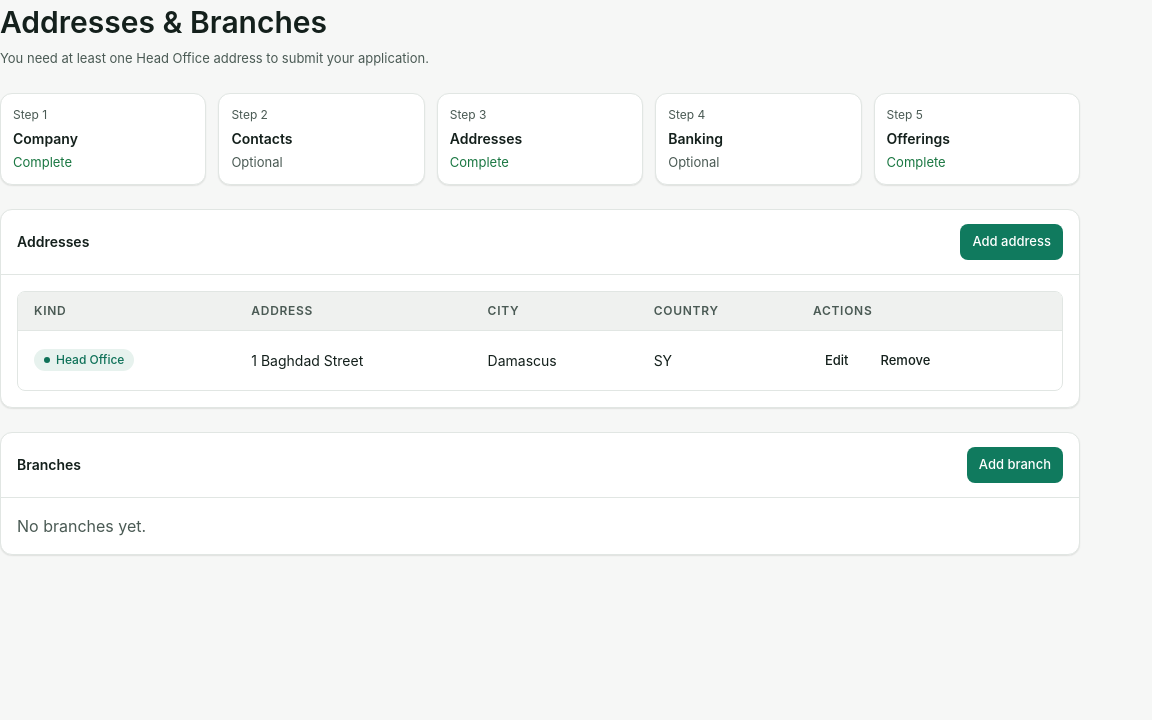
Test case: what the coordinate fields send › refuses to save an address with no position at all
Click the button "Edit" at (837, 360), box [813,342,860,378]
(page scrolled)
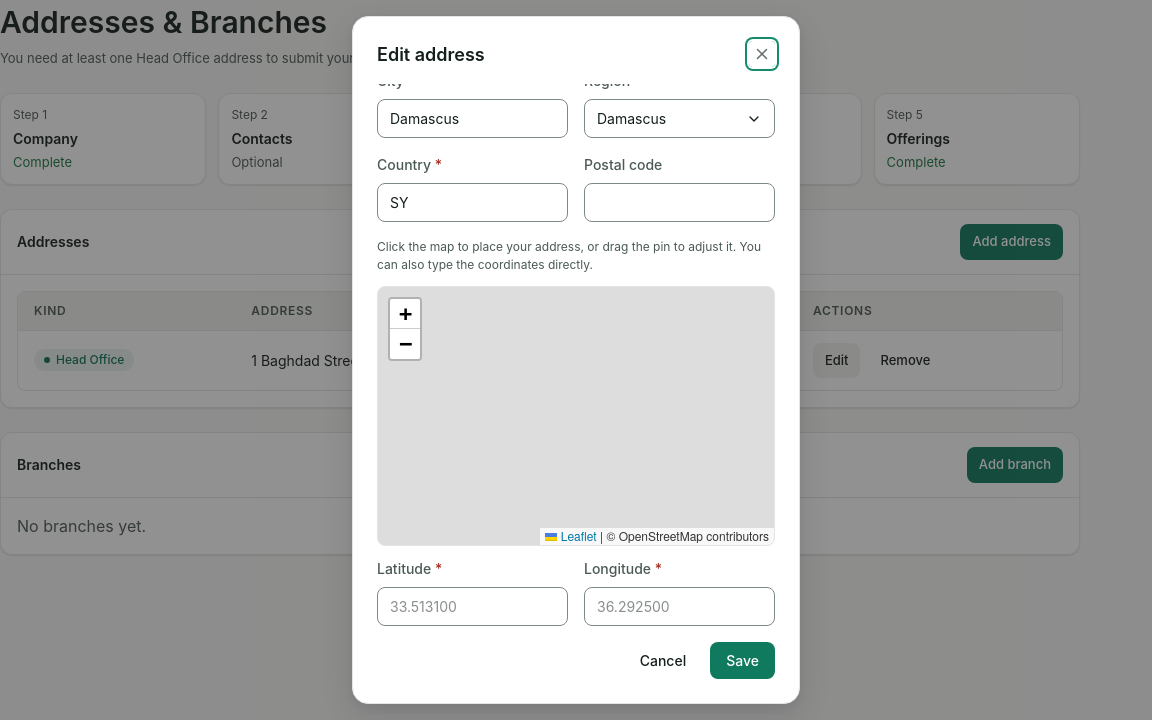
Click the button "Save" at (743, 660), box [710,642,775,679]
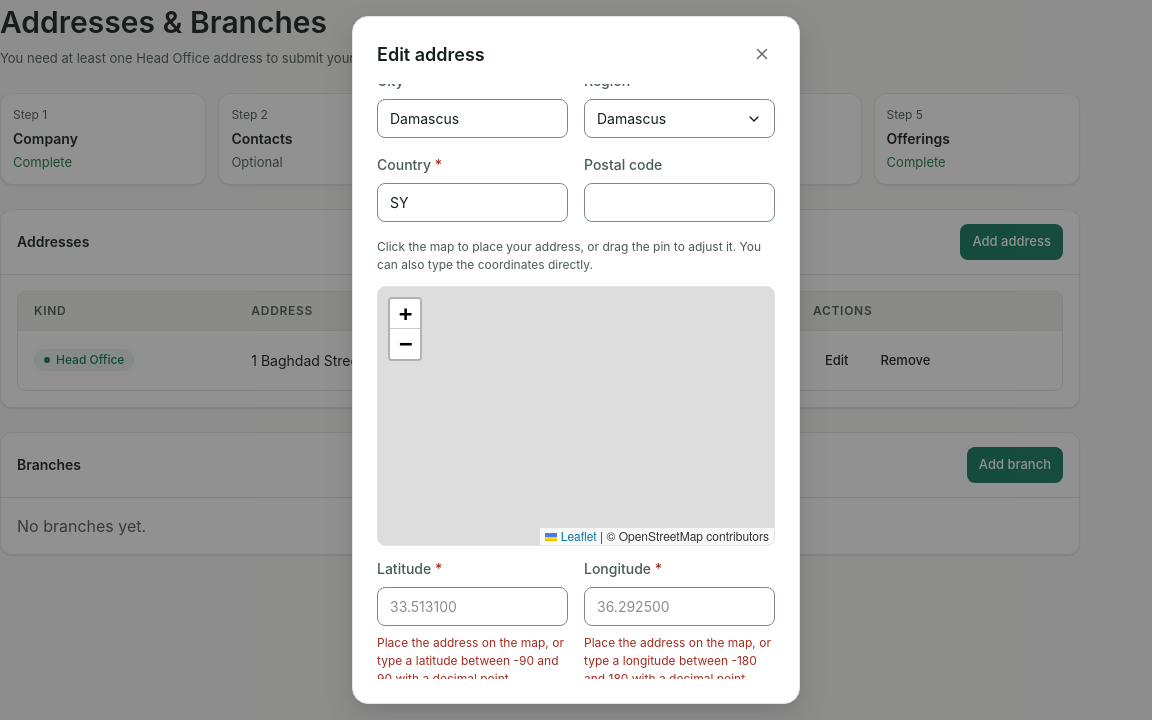
expect the text "between -90 and 90" is shown: met, box [377,635,564,679]
